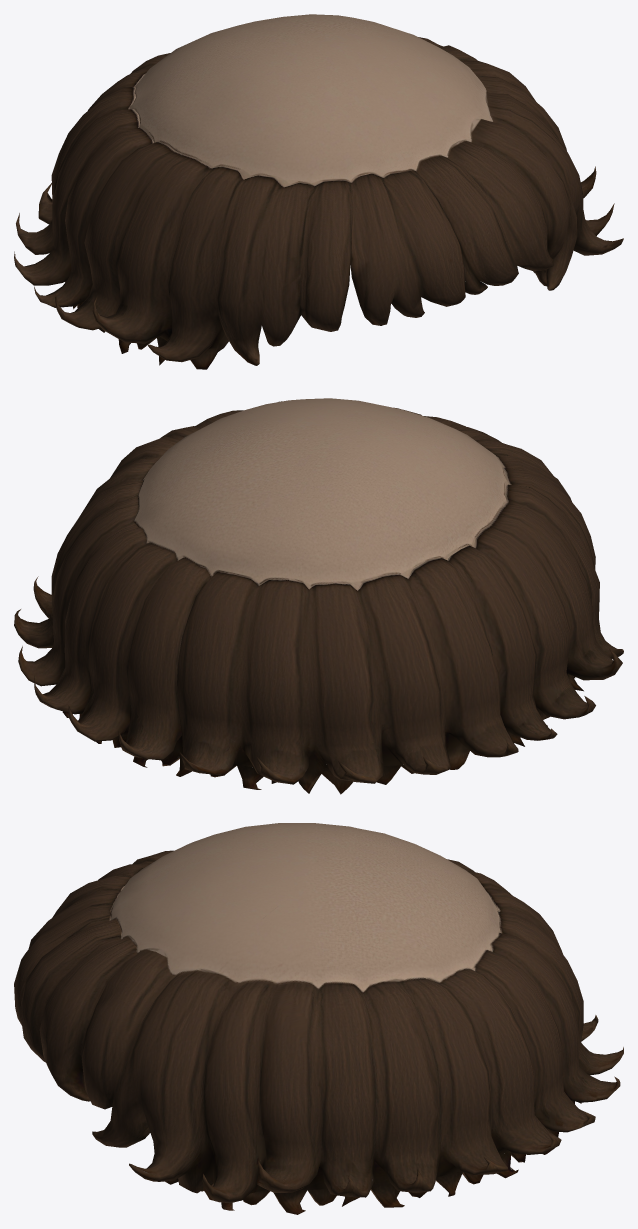
File: TheMonkRingHair.fbx
The picture shows the model from 3 angles, top to bottom: view 1: azimuth 30°, elevation 25°; view 2: azimuth 150°, elevation 25°; view 3: azimuth 270°, elevation 25°; orthographic projection. The views are drawn at different scales.
Parts seen in each view (by area): view 1: tripo_part_1, tripo_part_3, tripo_part_0, tripo_part_2; view 2: tripo_part_1, tripo_part_3, tripo_part_0, tripo_part_2; view 3: tripo_part_0, tripo_part_3, tripo_part_1, tripo_part_2.
Boxes of the visible parts, <box> form: tripo_part_1: <box>14,53,465,365</box>; tripo_part_3: <box>129,14,493,186</box>; tripo_part_0: <box>416,37,623,294</box>; tripo_part_2: <box>65,270,546,369</box>; tripo_part_1: <box>177,416,623,784</box>; tripo_part_3: <box>133,398,508,589</box>; tripo_part_0: <box>14,401,421,760</box>; tripo_part_2: <box>62,674,583,794</box>; tripo_part_0: <box>20,919,620,1203</box>; tripo_part_3: <box>110,823,500,993</box>; tripo_part_1: <box>14,850,623,1075</box>; tripo_part_2: <box>165,1100,581,1214</box>.
Size of the model in its own units: 1 by 0.4442 by 0.9765.
